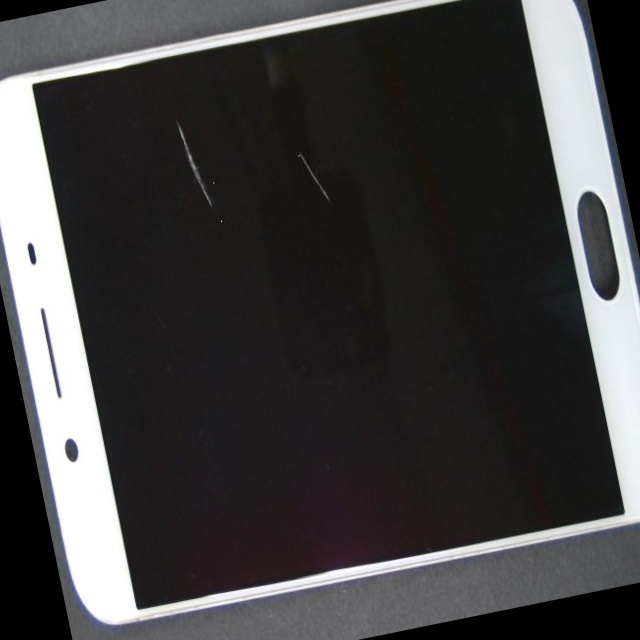scratch: (109, 0, 472, 288), (61, 9, 278, 208)
